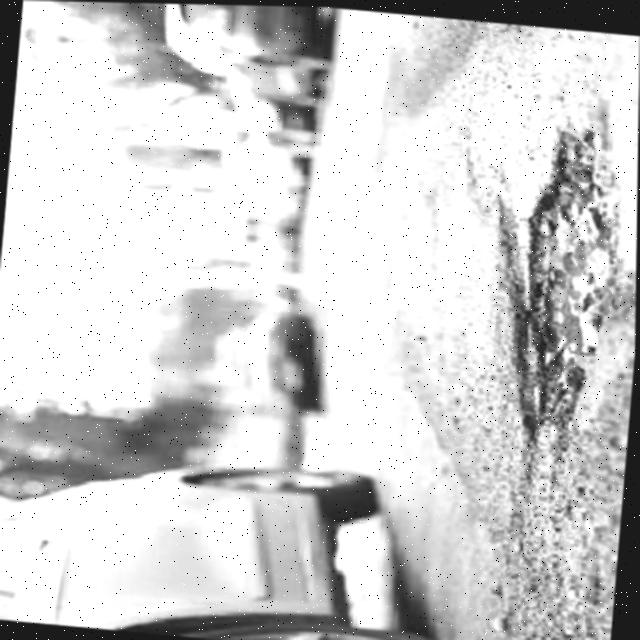Pothole: (470, 117, 633, 442)
